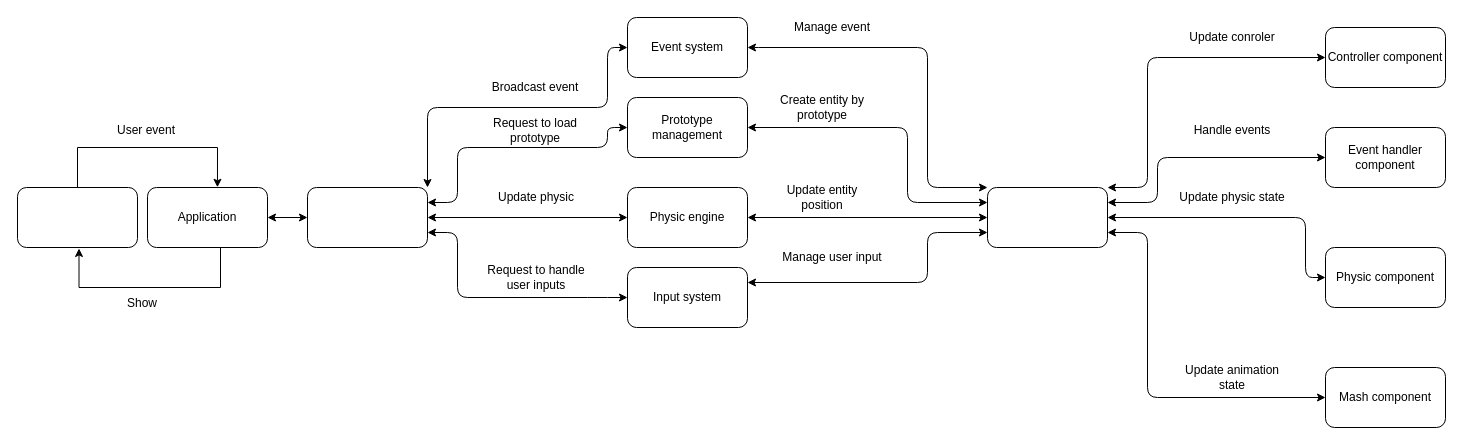
The diagram is 1463 pixels wide and 445 high, and some of its shapes have lost their labels. Each missing label, with the centre of its shape:
"Engine" belongs at [367,217].
"Entity" belongs at [1047,217].
"User" belongs at [77,217].
